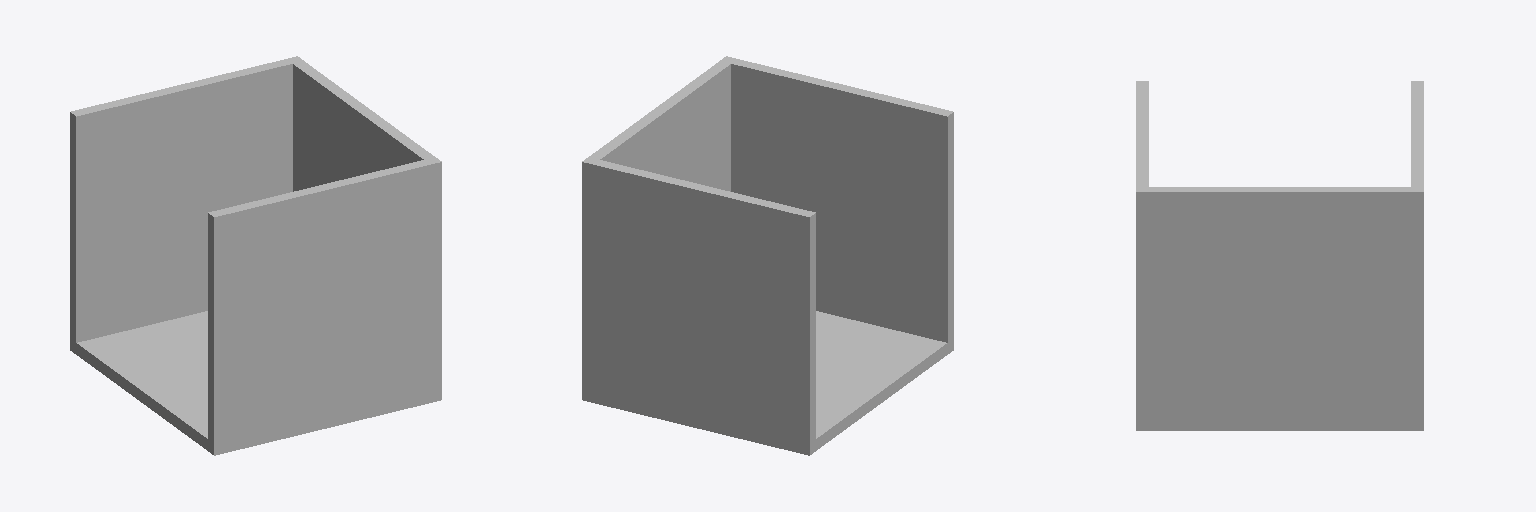
File: room.obj
3 renders of one model, left to right at view 1: azimuth 30°, elevation 25°; view 2: azimuth 150°, elevation 25°; view 3: azimuth 270°, elevation 25°, orthographic.
Visible parts, largest first — view 1: Cube.002, Cube.001, Cube, Cube.003; view 2: Cube.001, Cube.002, Cube, Cube.003; view 3: Cube.003, Cube.002, Cube.001, Cube.
Boxes of the visible parts, x1=… form: Cube.002: x1=208, y1=157, x2=441, y2=455; Cube.001: x1=70, y1=56, x2=303, y2=353; Cube: x1=76, y1=311, x2=207, y2=450; Cube.003: x1=293, y1=61, x2=434, y2=191; Cube.001: x1=582, y1=157, x2=815, y2=455; Cube.002: x1=720, y1=56, x2=953, y2=353; Cube: x1=816, y1=311, x2=947, y2=450; Cube.003: x1=589, y1=61, x2=730, y2=191; Cube.003: x1=1149, y1=187, x2=1411, y2=418; Cube.002: x1=1136, y1=81, x2=1148, y2=430; Cube.001: x1=1411, y1=81, x2=1423, y2=430; Cube: x1=1149, y1=419, x2=1411, y2=430.
Bounding box in the file's own units: 20 × 20 × 21.97.